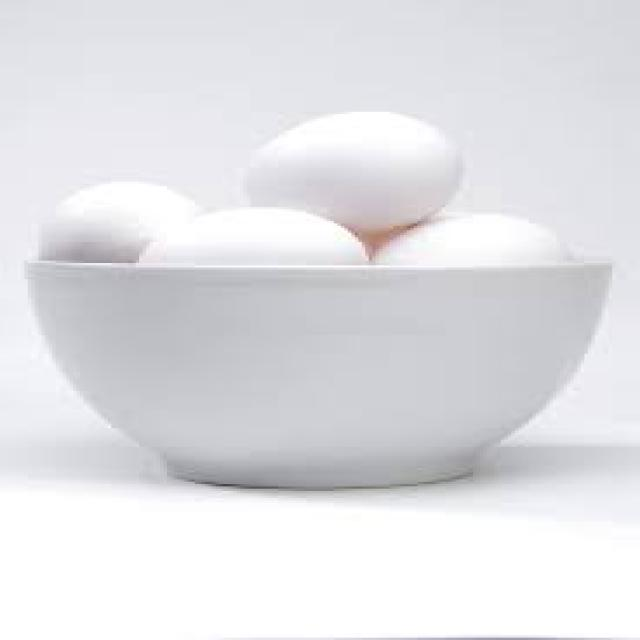White Egg: (237, 111, 464, 221), (123, 202, 386, 274), (34, 158, 200, 255), (383, 210, 572, 264)
